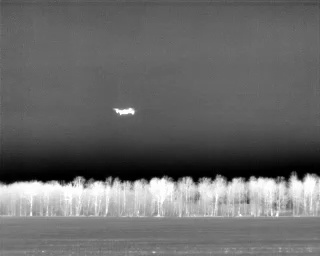DRONE: (111, 102, 139, 120)
